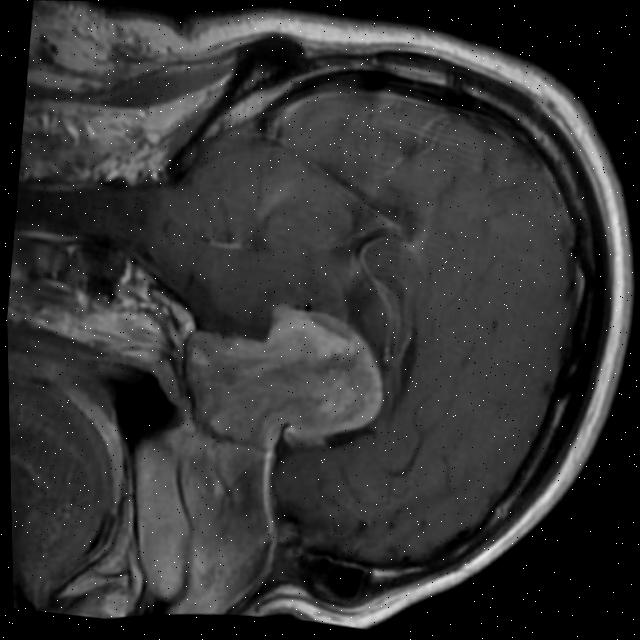Pituitary: (175, 297, 393, 456)
